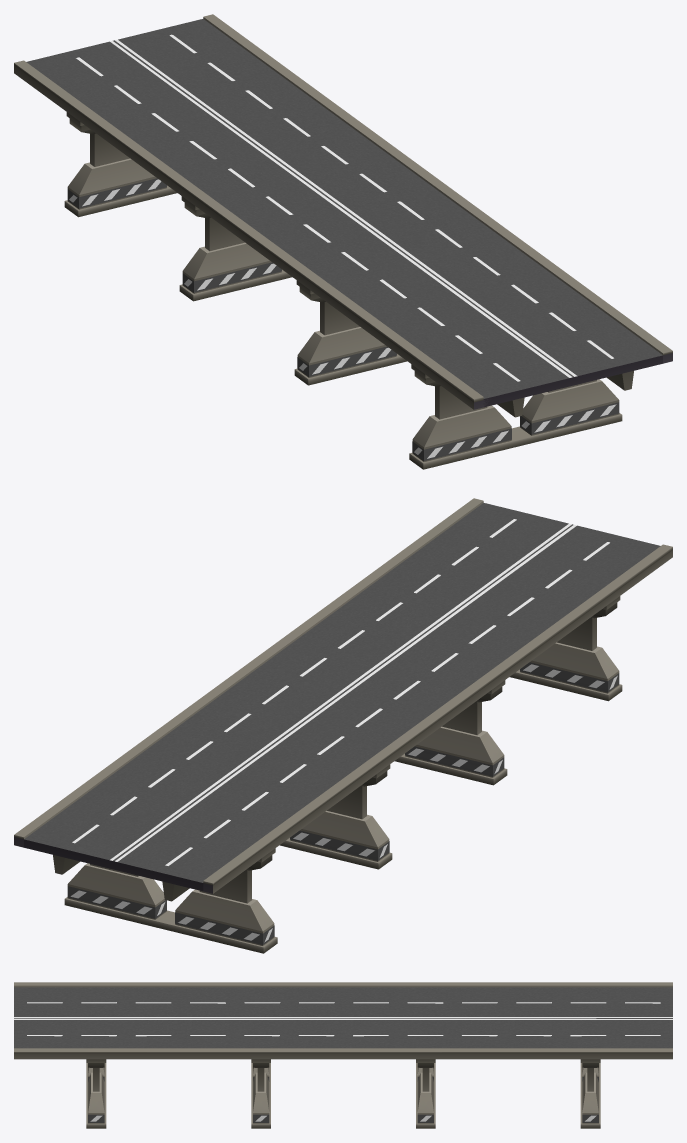
3 views of the same model, one above another, from view 1: azimuth 30°, elevation 25°; view 2: azimuth 150°, elevation 25°; view 3: azimuth 270°, elevation 25° (orthographic). The views are drawn at different scales.
Parts seen in each view (by area): view 1: Highway_1A; view 2: Highway_1A; view 3: Highway_1A.
Part boxes in pixels (x1,y1,x2,y2): Highway_1A: [14, 14, 672, 469]; Highway_1A: [14, 498, 672, 953]; Highway_1A: [14, 982, 672, 1128].
Size of the model in its own units: 24915 by 12831 by 99659.
